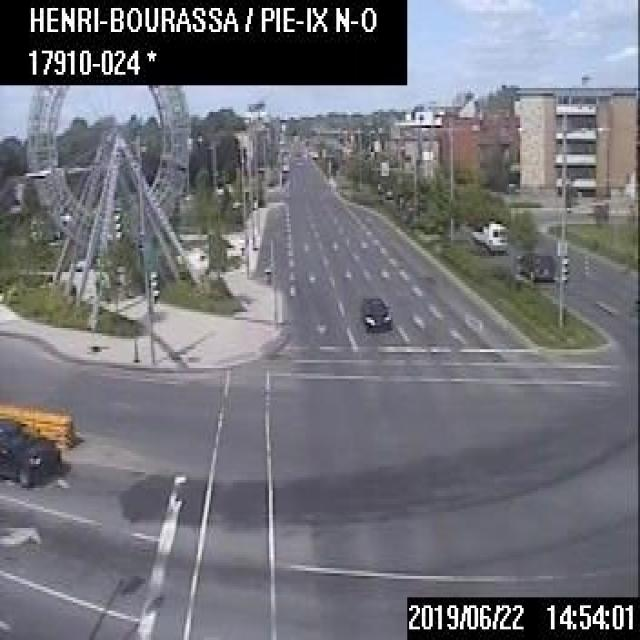vehicle: (0, 419, 58, 488), (464, 219, 506, 253), (360, 294, 391, 334), (512, 251, 554, 280)
